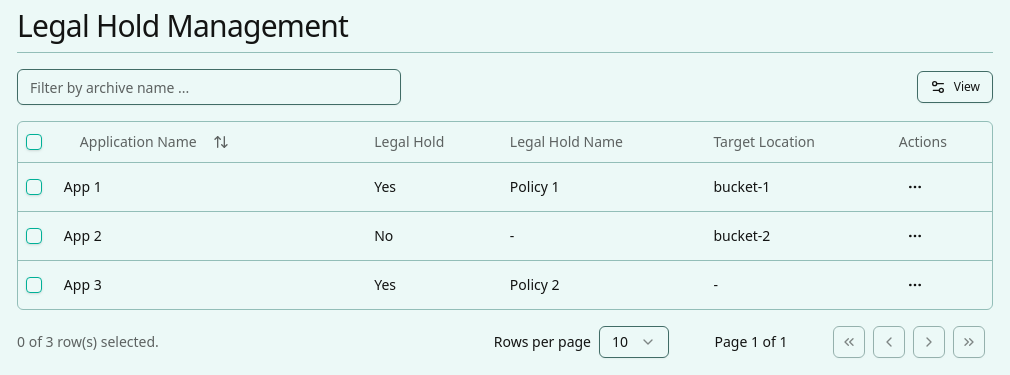
Test: Legal Hold Components › ListLegalHold Component › should filter table data when search input changes
The image size is (1010, 375).
# Type in the filter
Type "App 1" into the field with placeholder "Filter by archive name ...".
click(209, 87); type("App 1")  # box x1=17 y1=69 x2=401 y2=105
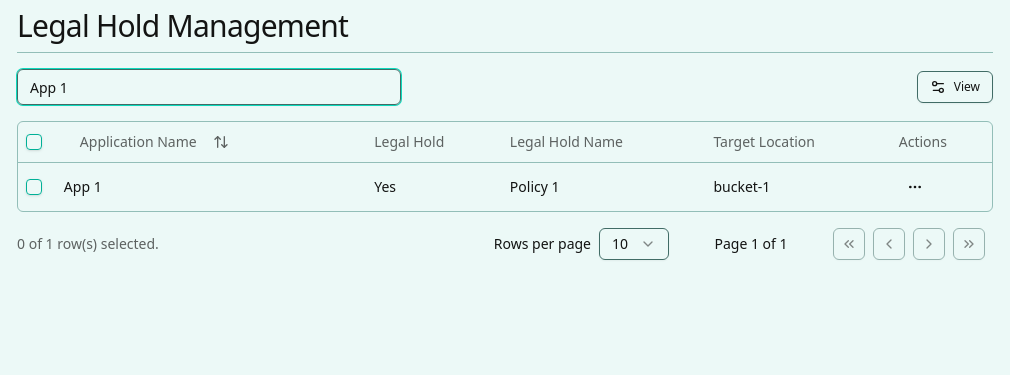
Expected: the text "App 1" is shown, x1=56 y1=162 x2=366 y2=210
Result: the text "App 2" is gone
Result: the text "App 3" is gone
